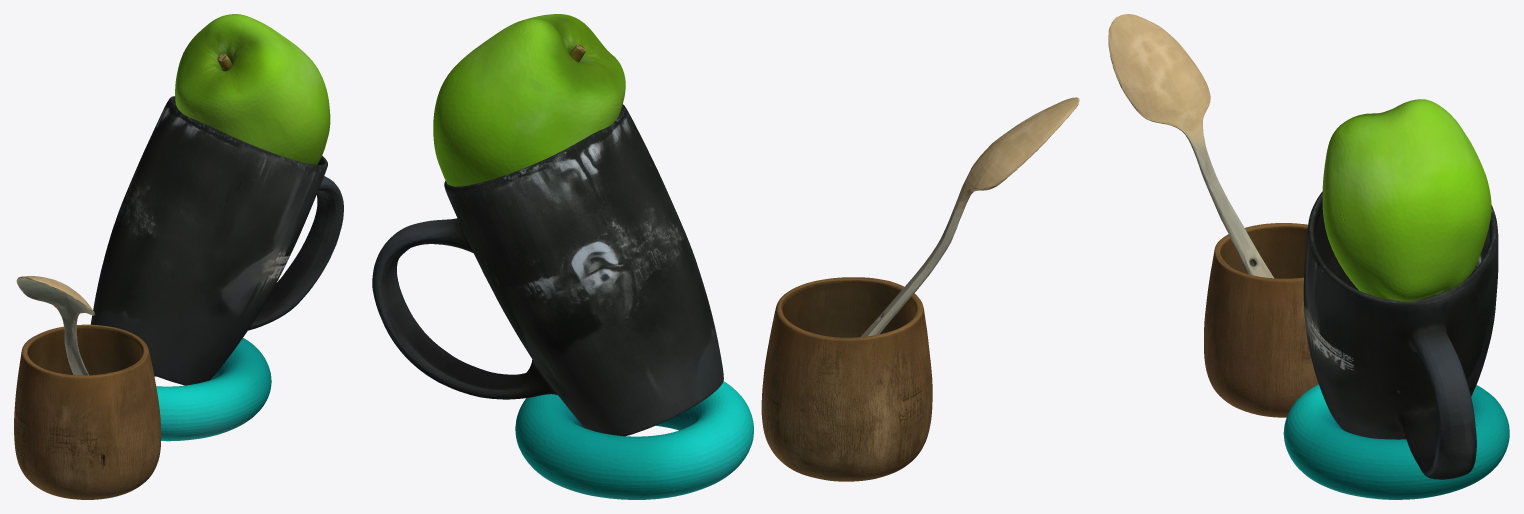
Rendered from phi-scene.glb.
3 views of the same model, side by side, from view 1: azimuth 30°, elevation 25°; view 2: azimuth 150°, elevation 25°; view 3: azimuth 270°, elevation 25° (orthographic). The views are drawn at different scales.
Visible parts, largest first — view 1: object_04, object_03, object_02, object_01, object_00; view 2: object_04, object_03, object_02, object_01, object_00; view 3: object_04, object_02, object_03, object_01, object_00.
Boxes of the visible parts, x1,y1,x2,y2 form: object_04: (90,96,343,385); object_03: (14,324,161,499); object_02: (175,14,330,164); object_01: (154,338,271,441); object_00: (16,276,95,375); object_04: (372,104,723,436); object_03: (761,277,932,481); object_02: (433,14,625,186); object_01: (515,381,753,499); object_00: (861,97,1079,336); object_04: (1303,191,1498,479); object_02: (1322,99,1491,301); object_03: (1204,223,1318,417); object_01: (1283,384,1509,499); object_00: (1108,14,1273,278).
Size of the model in its own units: 1.24 by 0.9557 by 0.8585.
5 materials, 5 textured.
